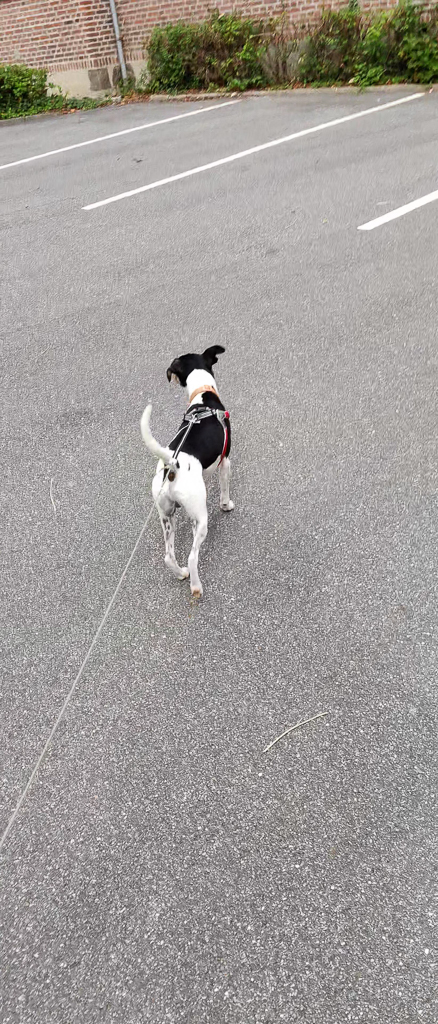Dog: (131, 332, 258, 622)
